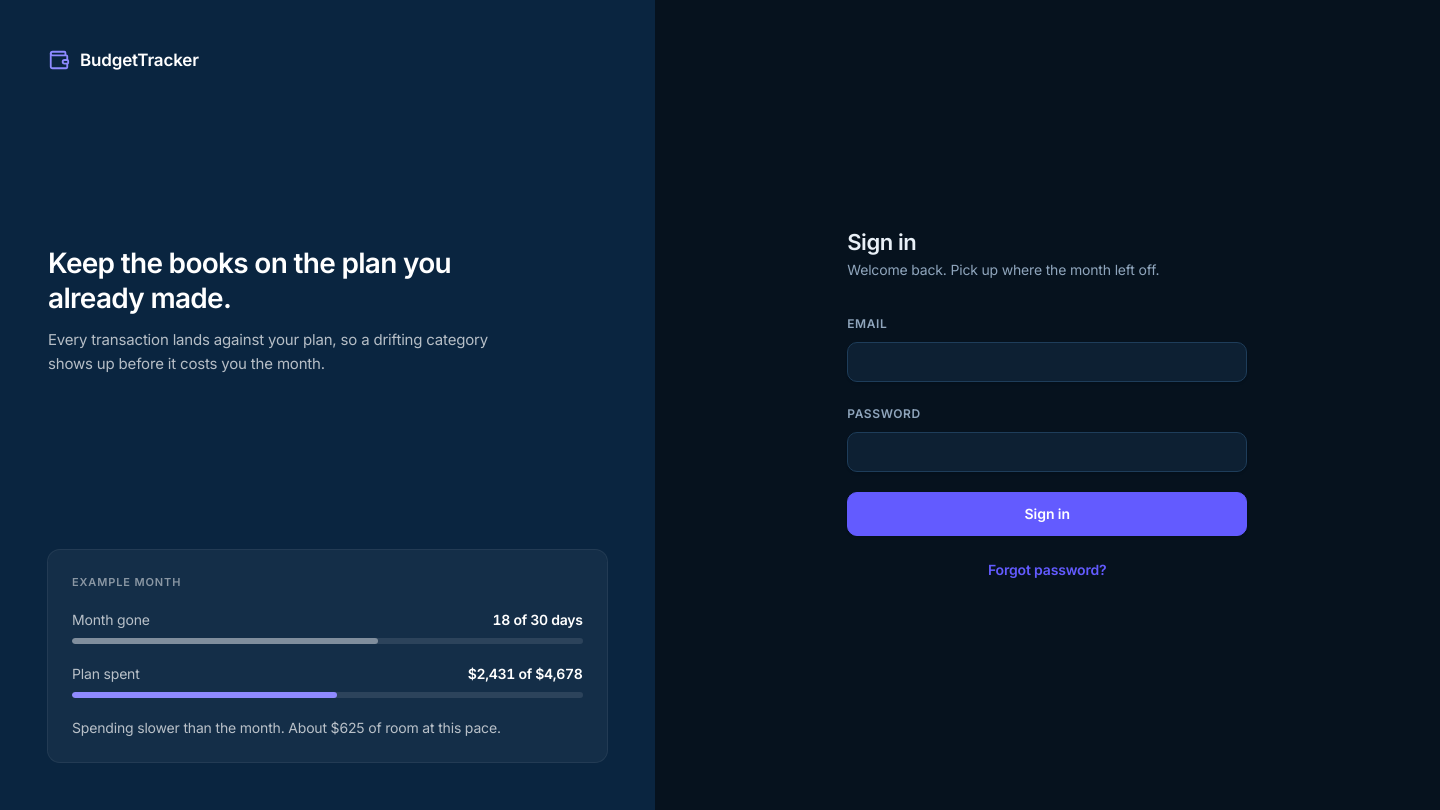
LoginPage › shows the error and stays on the code step when the code is wrong
This screenshot has width=1440, height=810.
Type "me@example.com" into the field labelled "Email" at (1047, 362), box [847,342,1247,382]
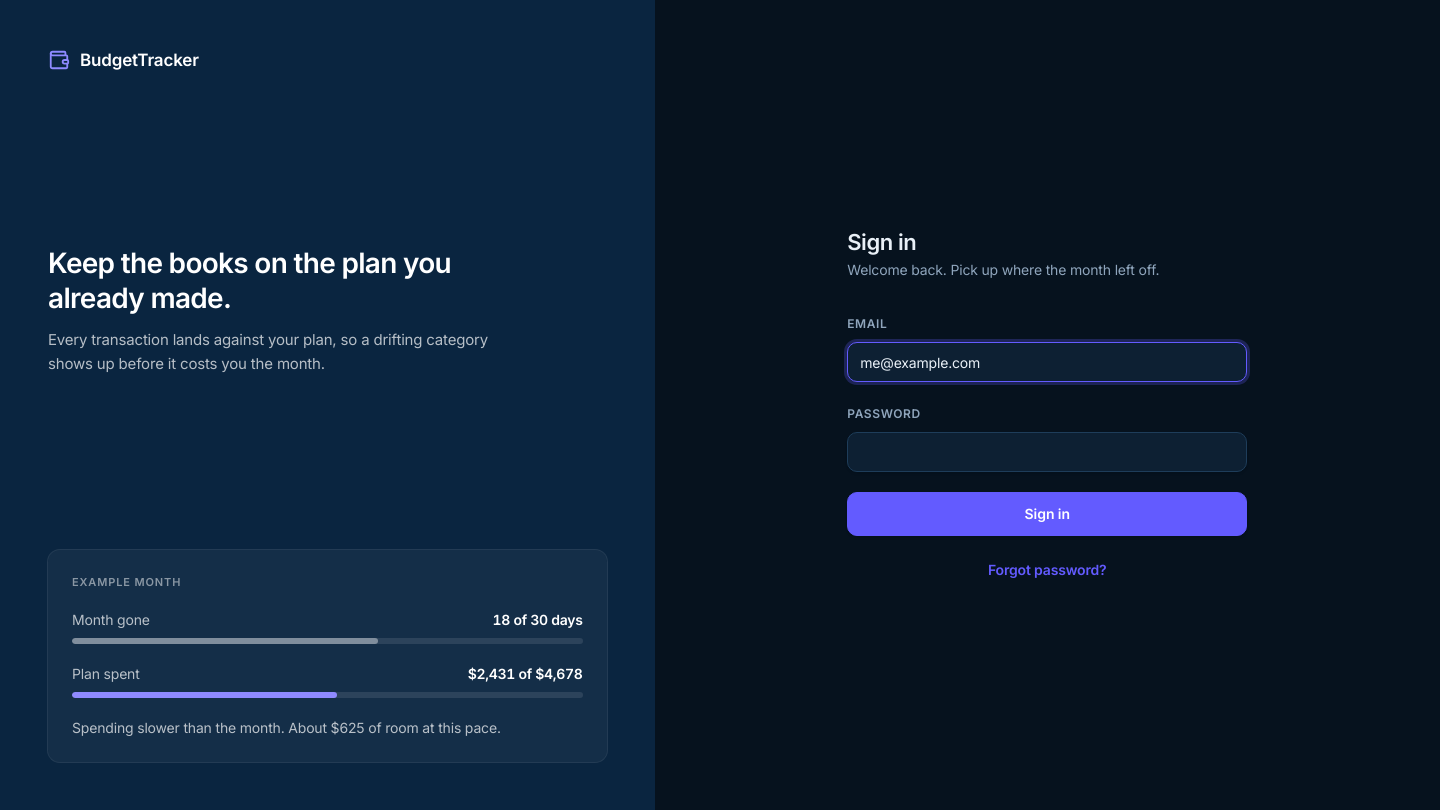
Type "hunter22" into the password field labelled "Password" at (1047, 452), box [847,432,1247,472]
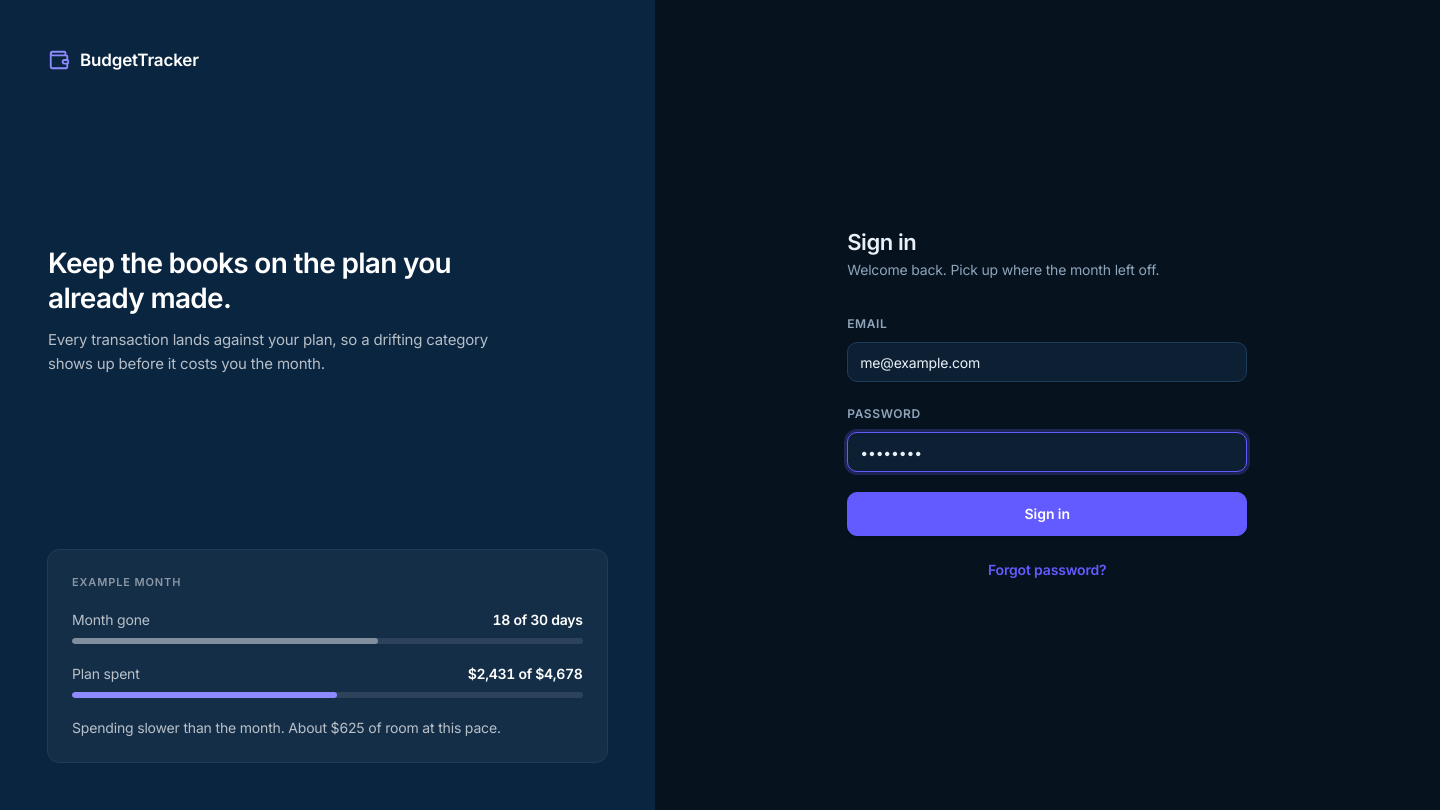
Click the button "Sign in" at (1047, 514), box [847,492,1247,536]
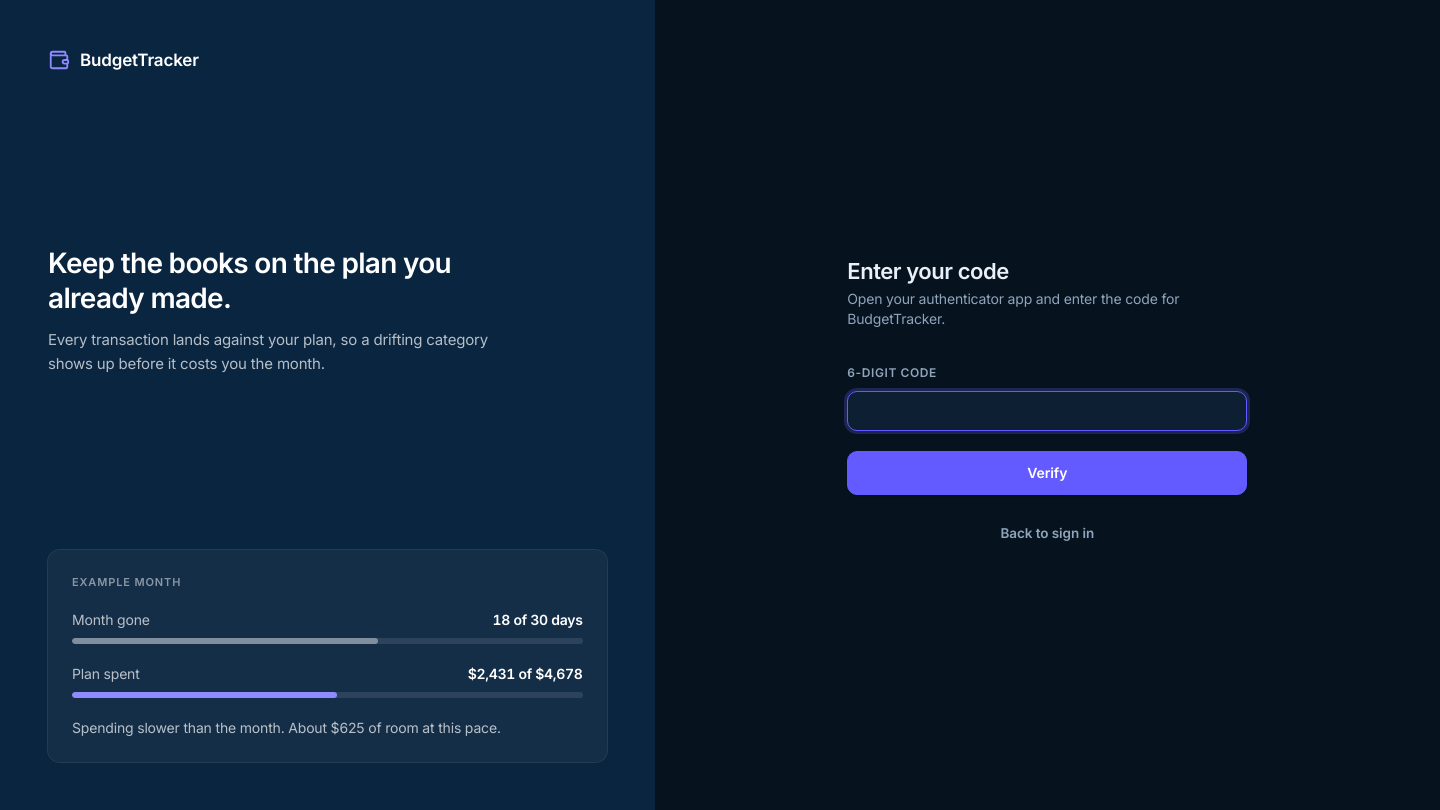
Type "000000" into the field labelled "6-digit code" at (1047, 411), box [847,391,1247,431]
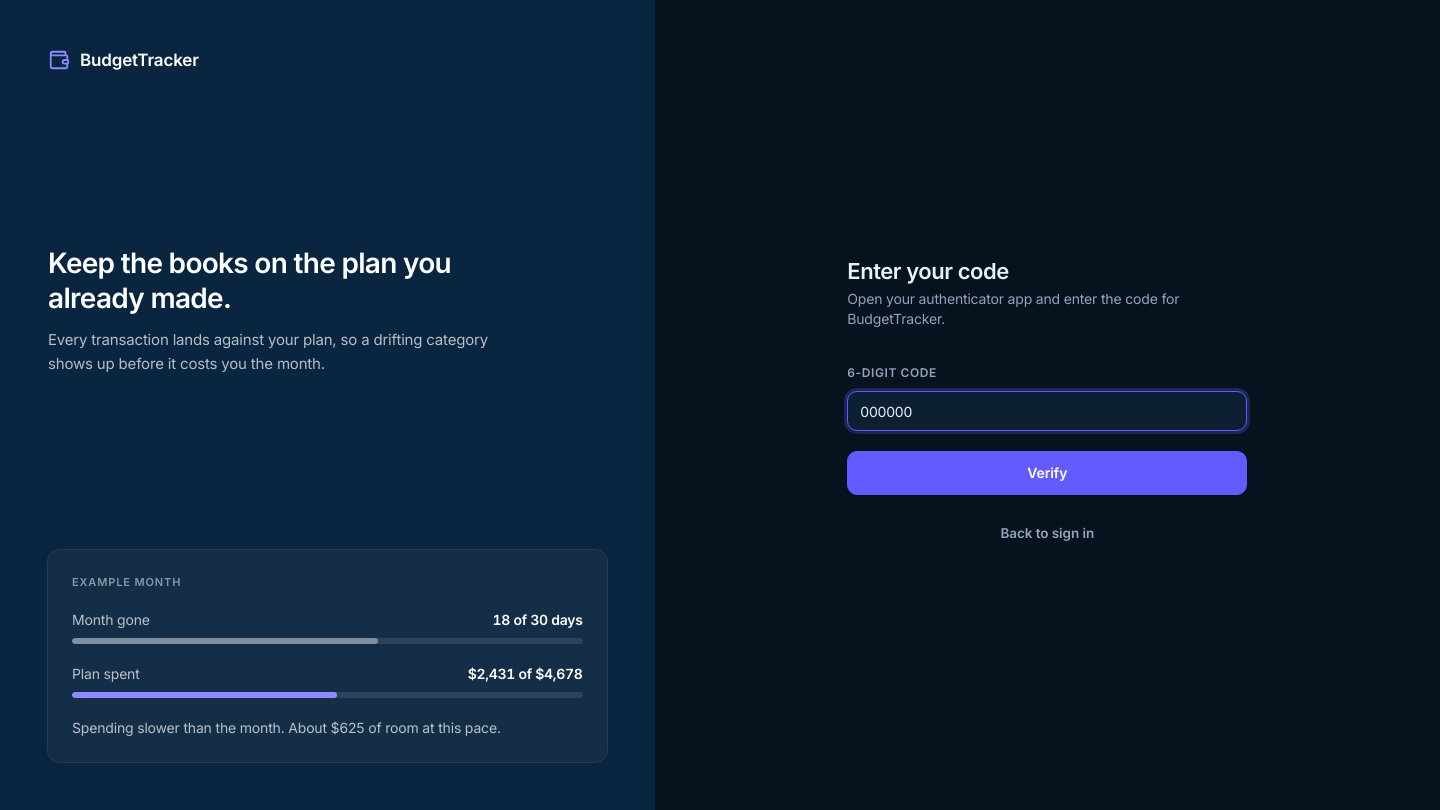
Click the button "Verify" at (1047, 473), box [847,451,1247,495]
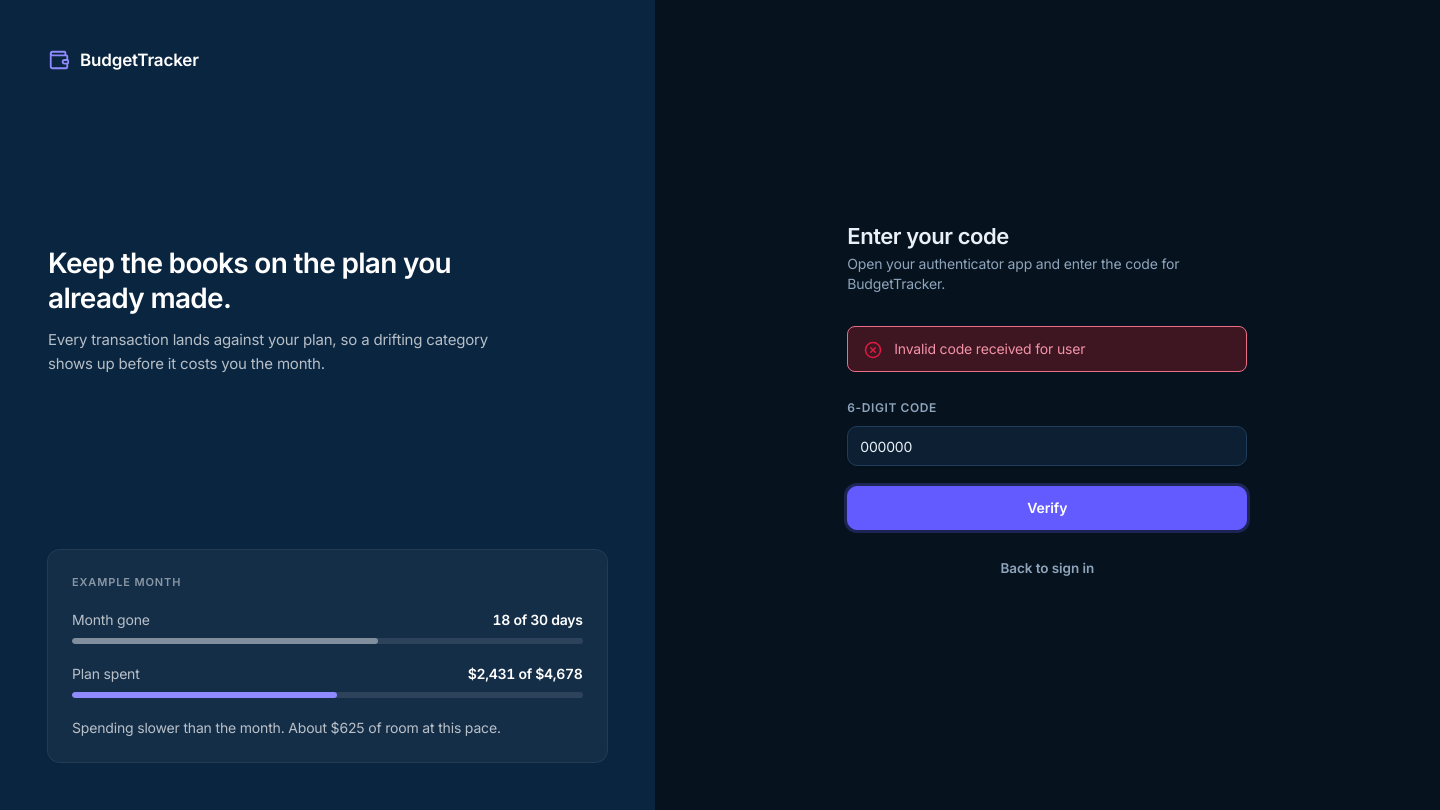
Result: the text "Invalid code received for user" is shown at [894,340,1085,357]
